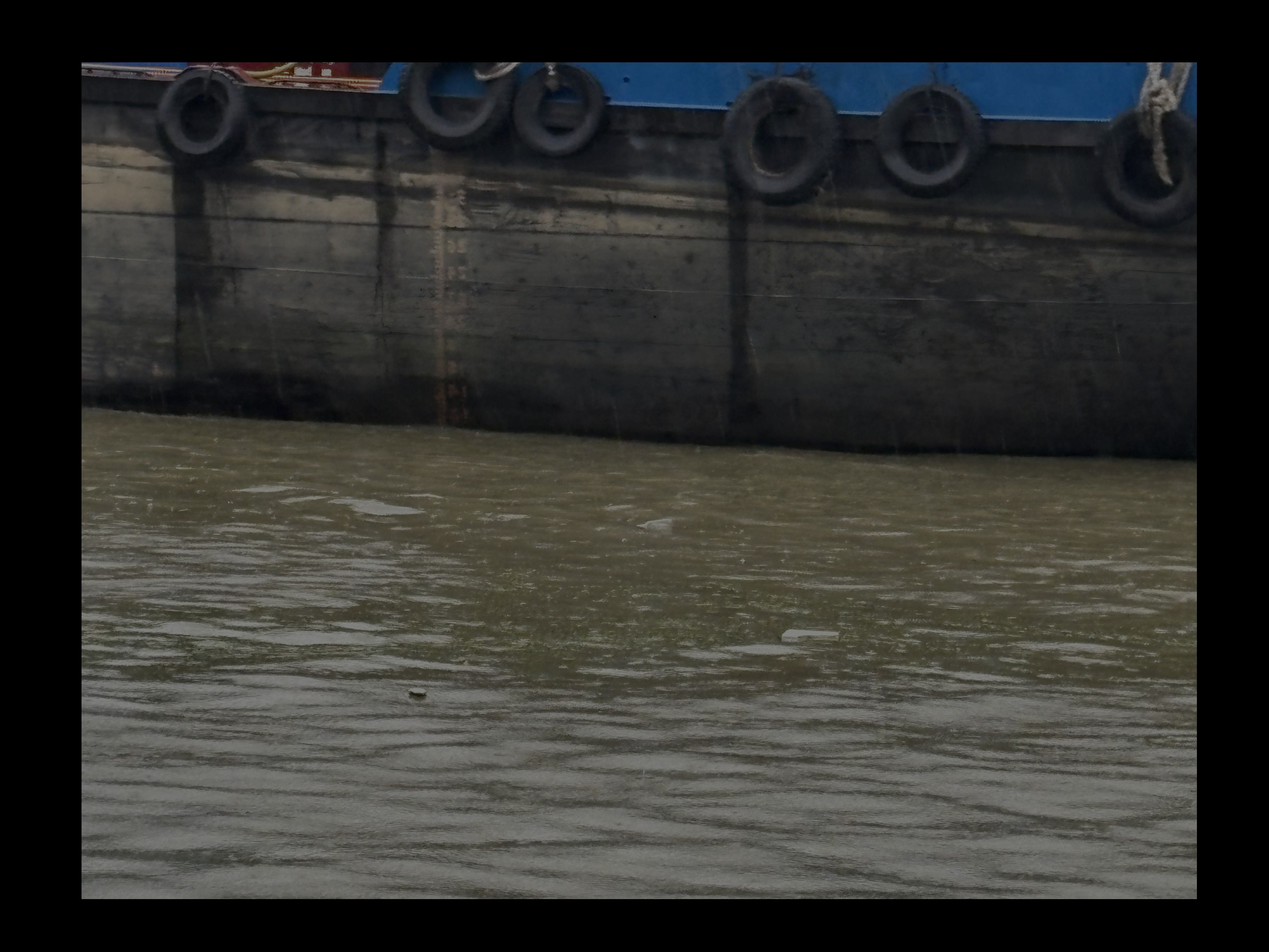Plastic wastes: (778, 627, 839, 648), (637, 518, 674, 530), (409, 685, 430, 697)
